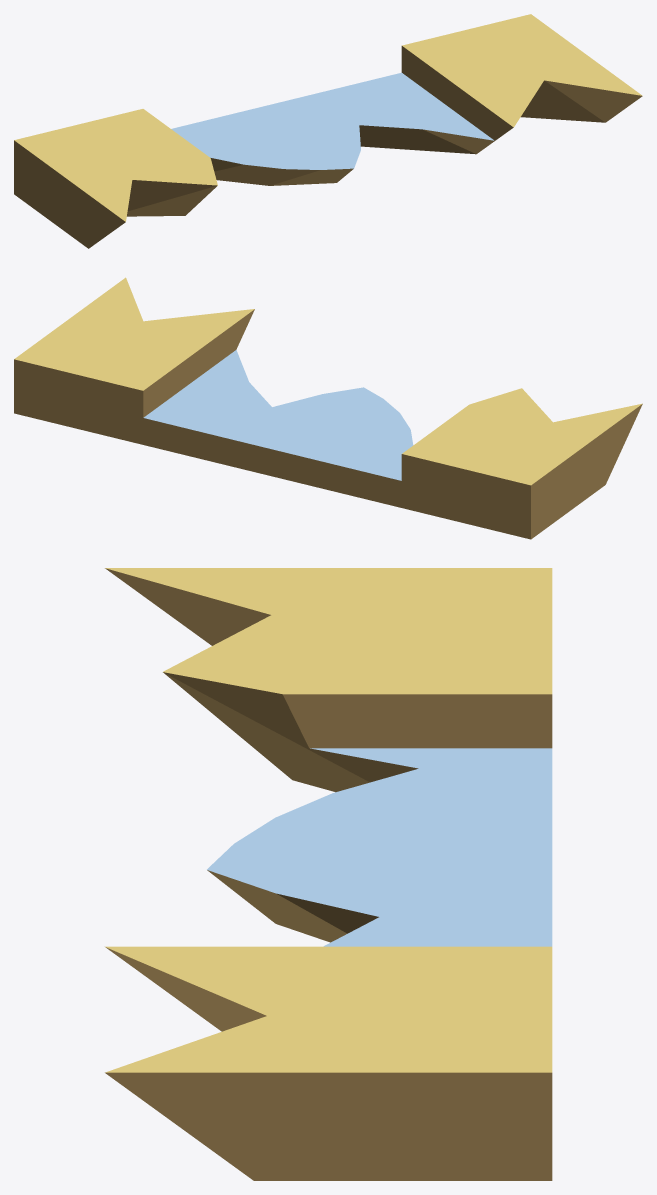
File: Terrain_Modular_Tiles_Sand_Dirt_Cliff_Edge_River_Outer_04.fbx
The picture shows the model from 3 angles, top to bottom: view 1: azimuth 30°, elevation 25°; view 2: azimuth 150°, elevation 25°; view 3: azimuth 270°, elevation 25°; orthographic projection. The views are drawn at different scales.
Parts seen in each view (by area): view 1: Terrain_Modular_Tiles_Sand_Dirt_Cliff_Edge_River_Outer_04; view 2: Terrain_Modular_Tiles_Sand_Dirt_Cliff_Edge_River_Outer_04; view 3: Terrain_Modular_Tiles_Sand_Dirt_Cliff_Edge_River_Outer_04.
Part boxes in pixels (x1,y1,x2,y2): Terrain_Modular_Tiles_Sand_Dirt_Cliff_Edge_River_Outer_04: (14, 14, 642, 248); Terrain_Modular_Tiles_Sand_Dirt_Cliff_Edge_River_Outer_04: (14, 277, 642, 539); Terrain_Modular_Tiles_Sand_Dirt_Cliff_Edge_River_Outer_04: (105, 568, 552, 1180).
Size of the model in its own units: 3000 by 300 by 1125.
